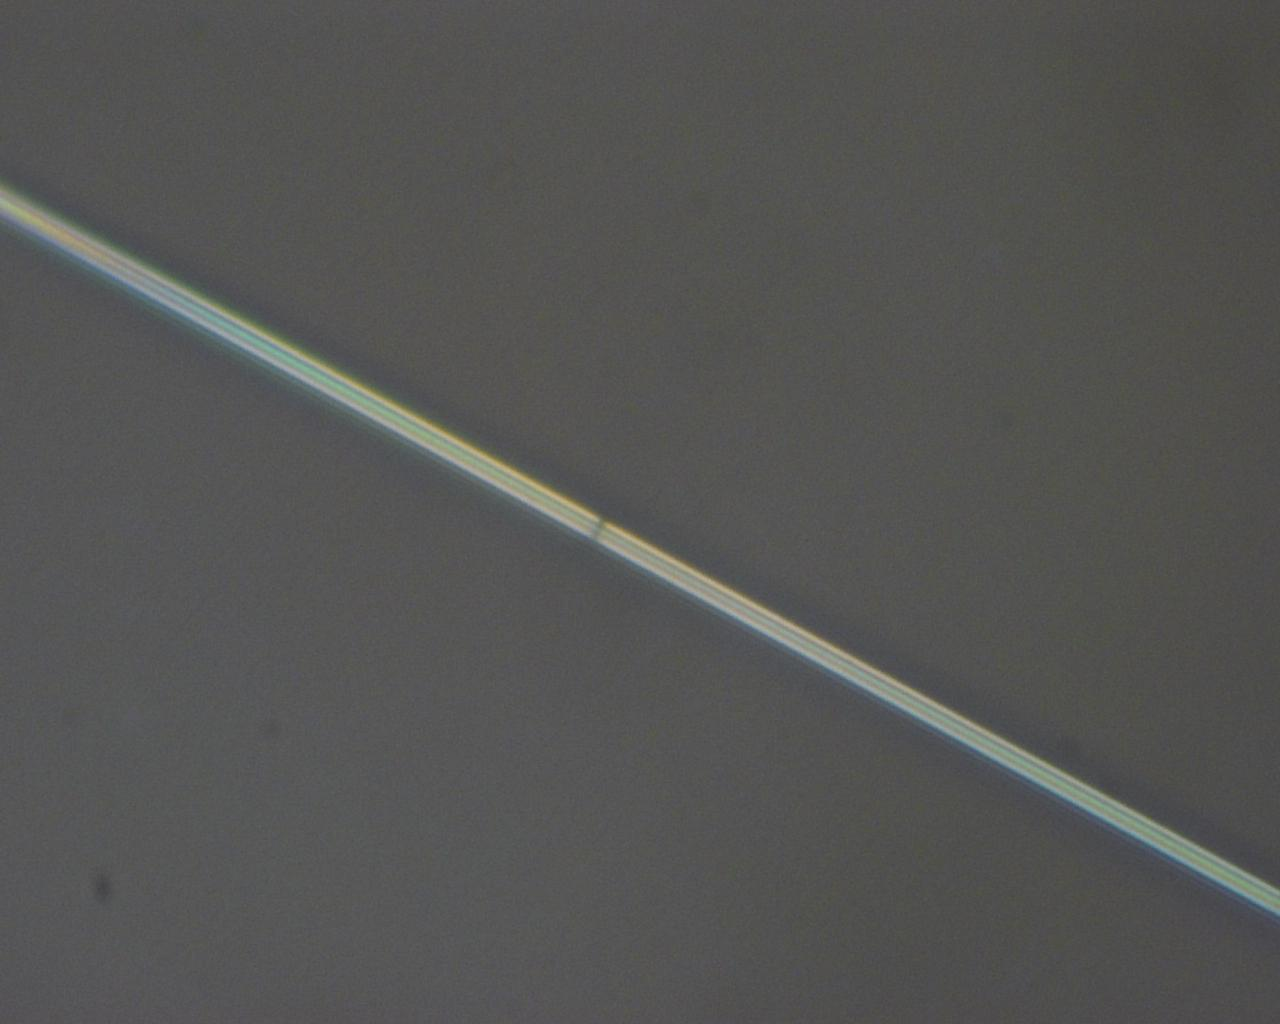fiber: (0, 183, 1280, 921)
